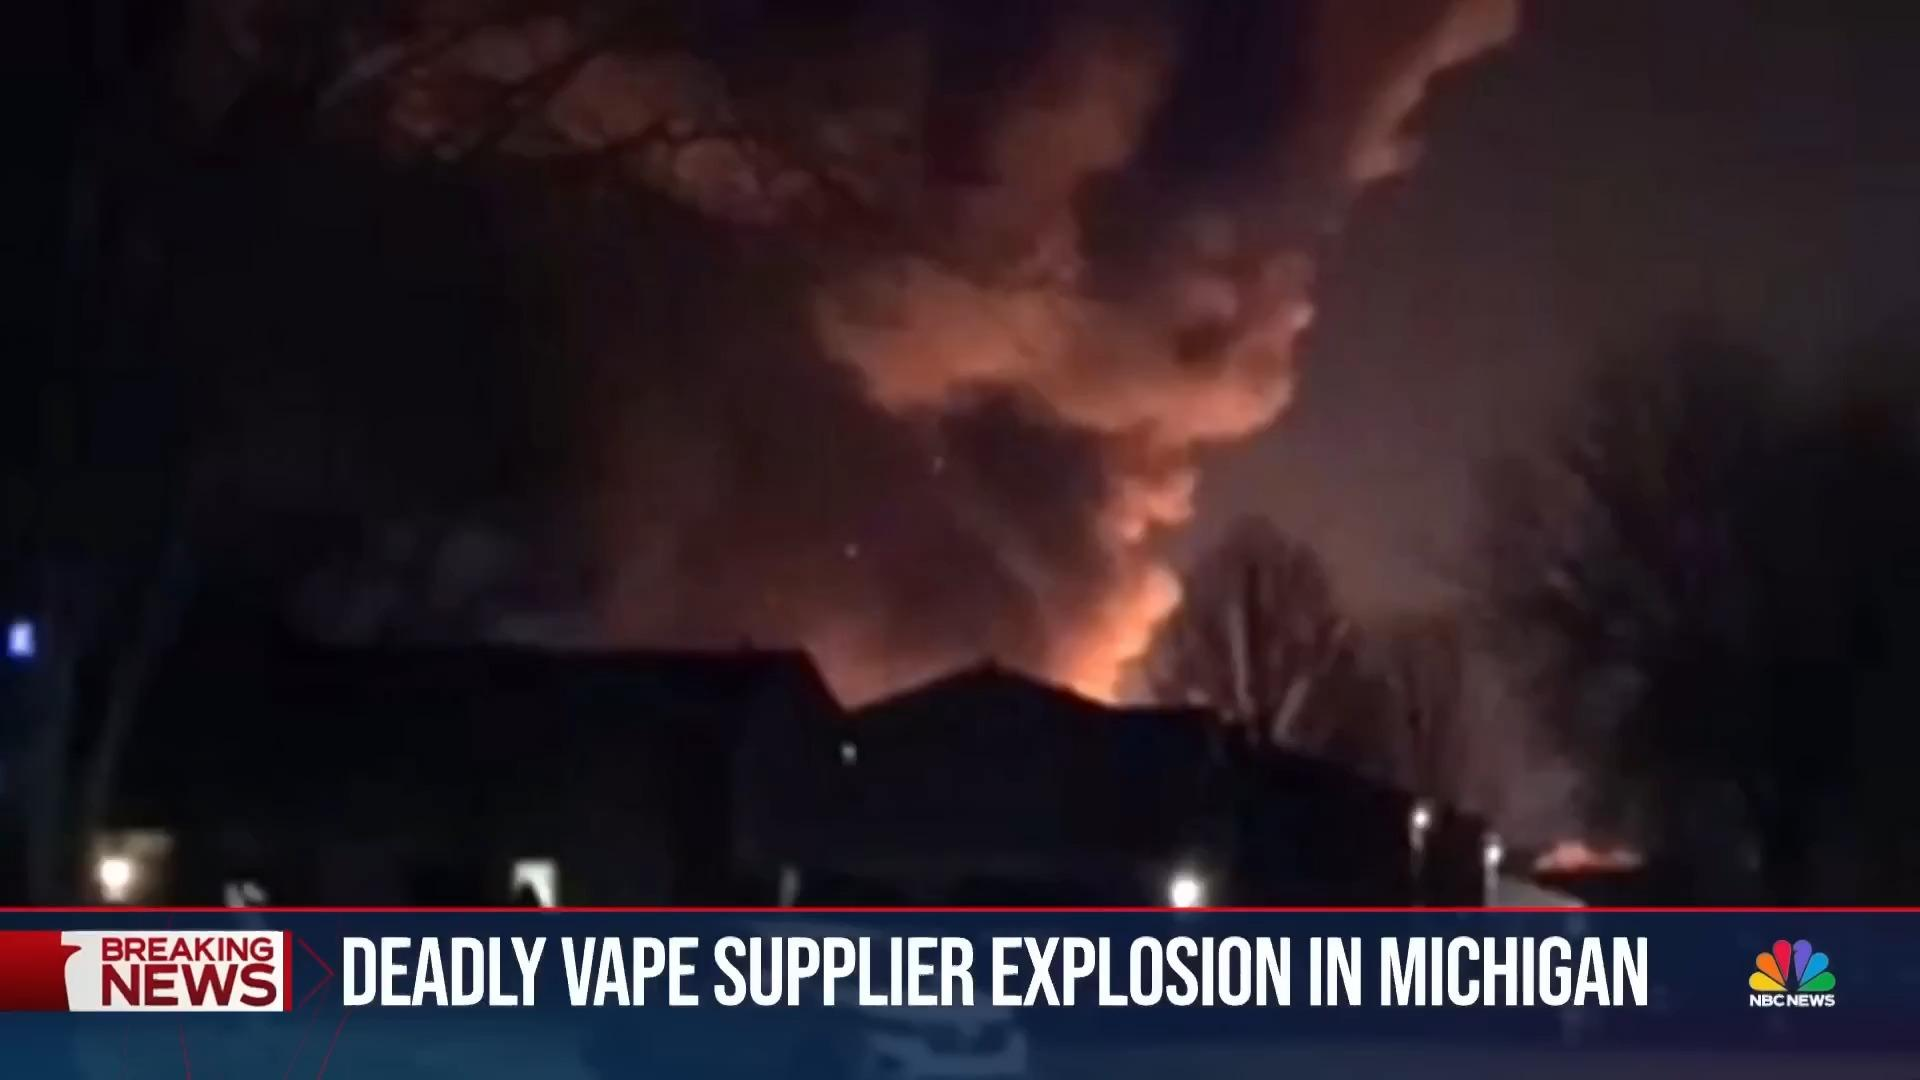fire: (720, 378, 1358, 757)
